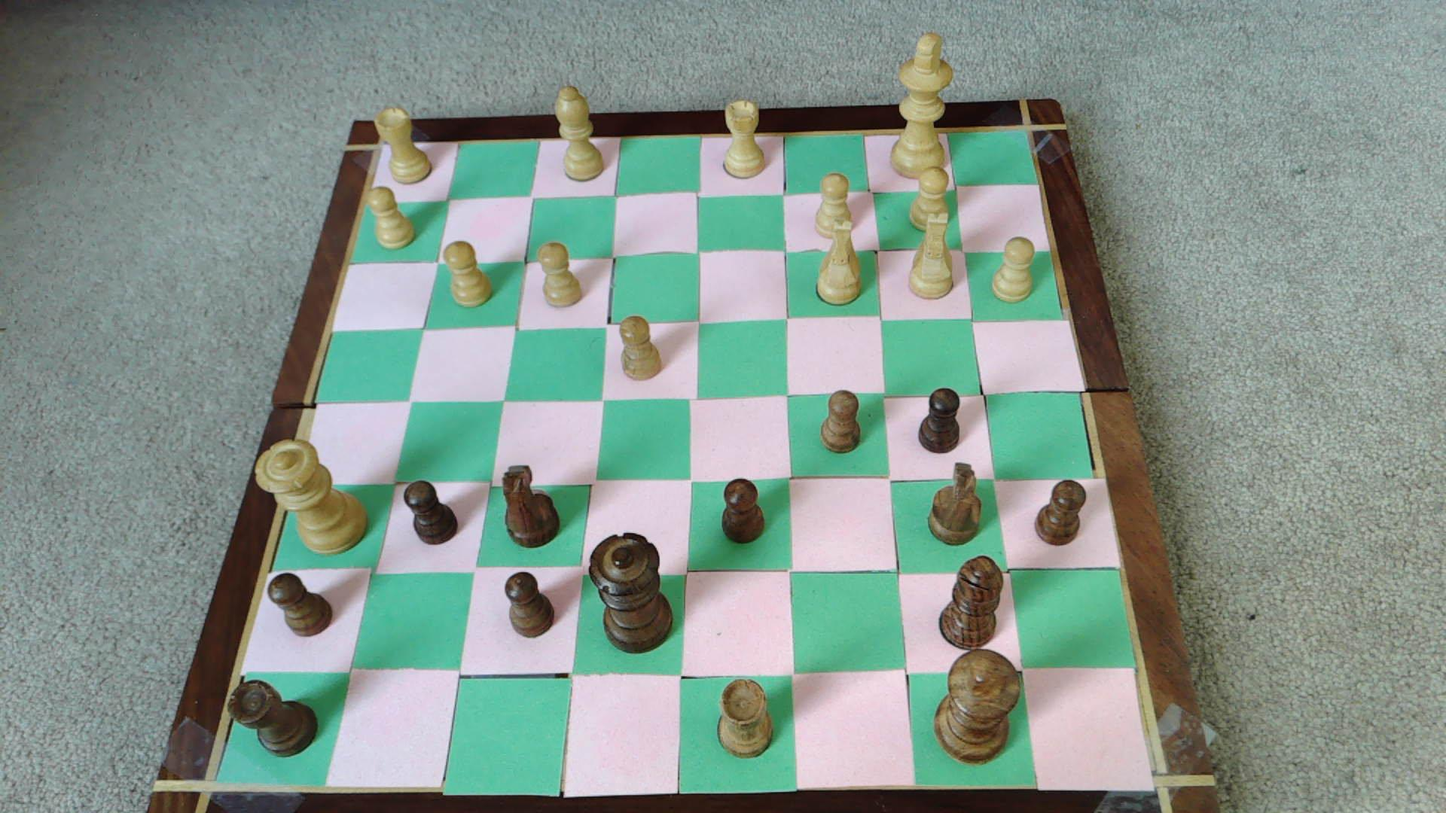dark_piece: (590, 533, 672, 652), (934, 649, 1020, 762), (231, 680, 318, 755), (940, 556, 1004, 648), (502, 464, 560, 548), (928, 463, 982, 544), (718, 678, 773, 756), (268, 572, 333, 636), (404, 481, 457, 543), (505, 571, 554, 637), (1036, 481, 1086, 544), (722, 478, 765, 542), (918, 388, 960, 452), (820, 390, 860, 451)
white_piece: (255, 440, 366, 552), (890, 31, 955, 178), (554, 86, 605, 181), (375, 107, 433, 183), (909, 213, 955, 298), (816, 228, 861, 304), (723, 99, 766, 178), (444, 241, 493, 306), (368, 187, 415, 250), (538, 242, 584, 306), (992, 236, 1035, 302), (908, 167, 950, 233), (619, 316, 662, 380), (814, 172, 853, 240)
